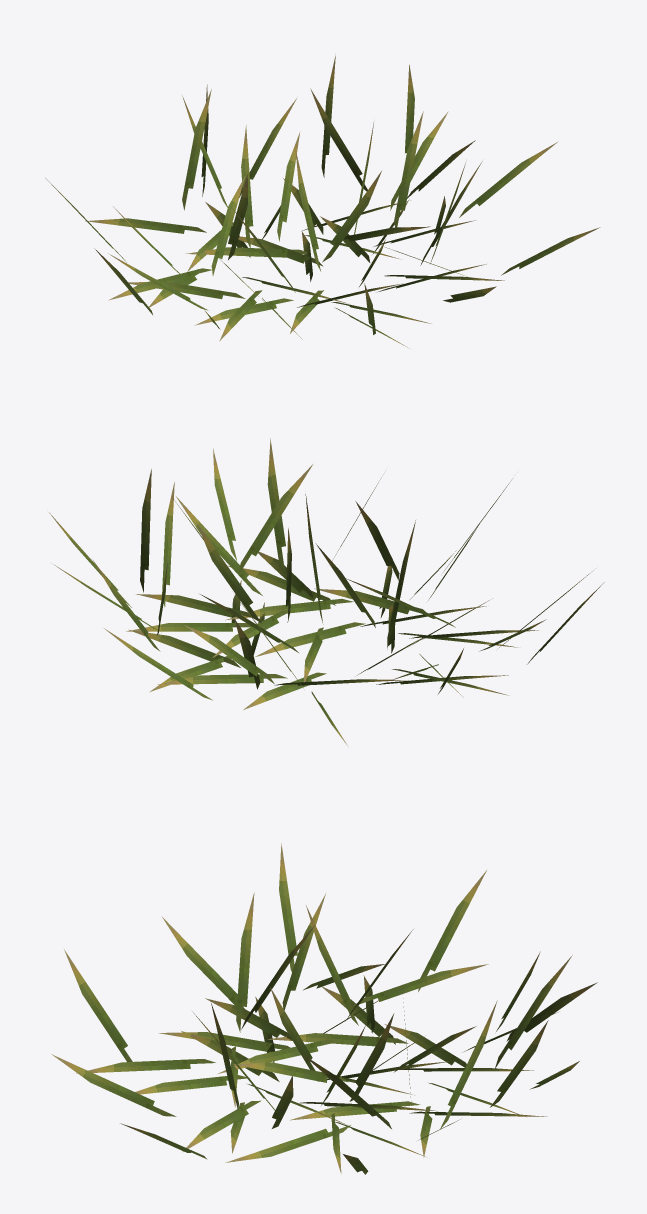
File: grass-tall.lod2.glb
3 views of the same model, one above another, from view 1: azimuth 30°, elevation 25°; view 2: azimuth 150°, elevation 25°; view 3: azimuth 270°, elevation 25° (orthographic). The views are drawn at different scales.
Parts seen in each view (by area): view 1: Object_2; view 2: Object_2; view 3: Object_2.
Boxes of the visible parts, x1,y1,x2,y2 form: Object_2: (45,55,600,347); Object_2: (49,438,604,745); Object_2: (51,843,597,1174).
Size of the model in its own units: 2.02 by 0.735 by 1.75.
Materials: 1 (1 with a texture image).
